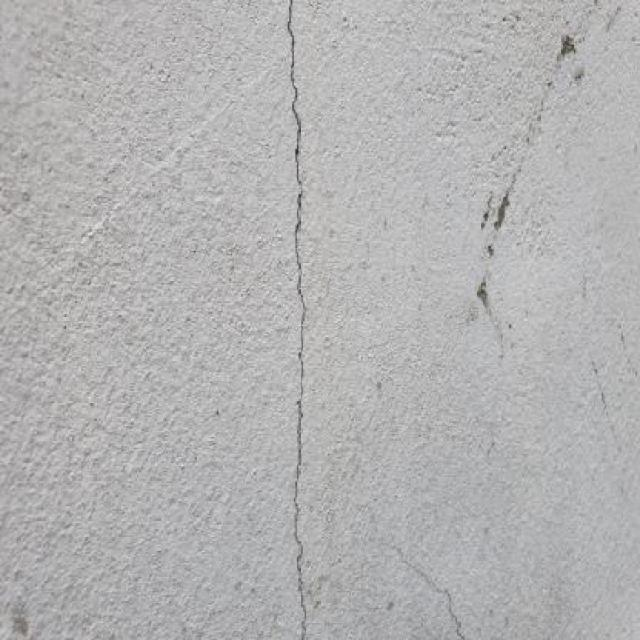GRIETA: (476, 34, 575, 353), (286, 0, 306, 639), (392, 545, 467, 639)
